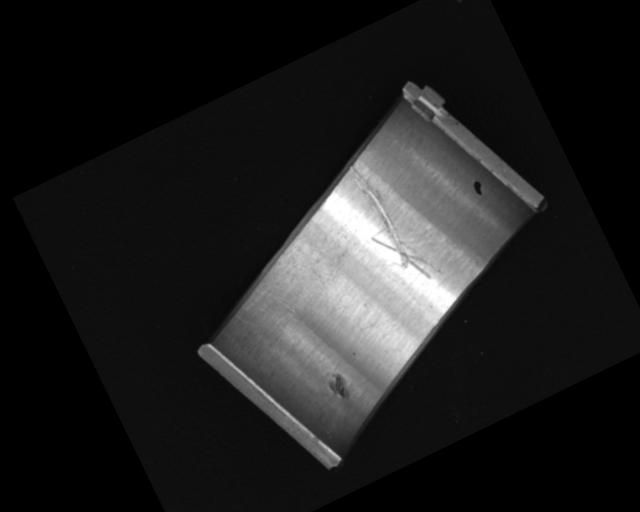blot: (469, 177, 487, 199)
bruise: (324, 370, 353, 404)
nick: (335, 149, 441, 295)
scratch: (216, 229, 348, 342)
